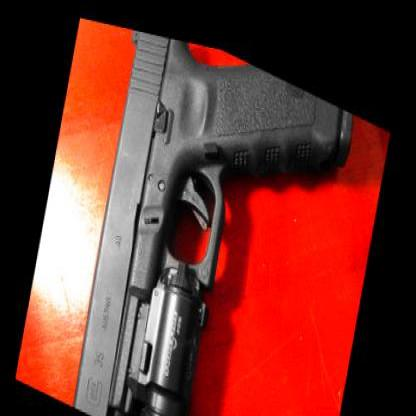pistol: (62, 12, 355, 415)
